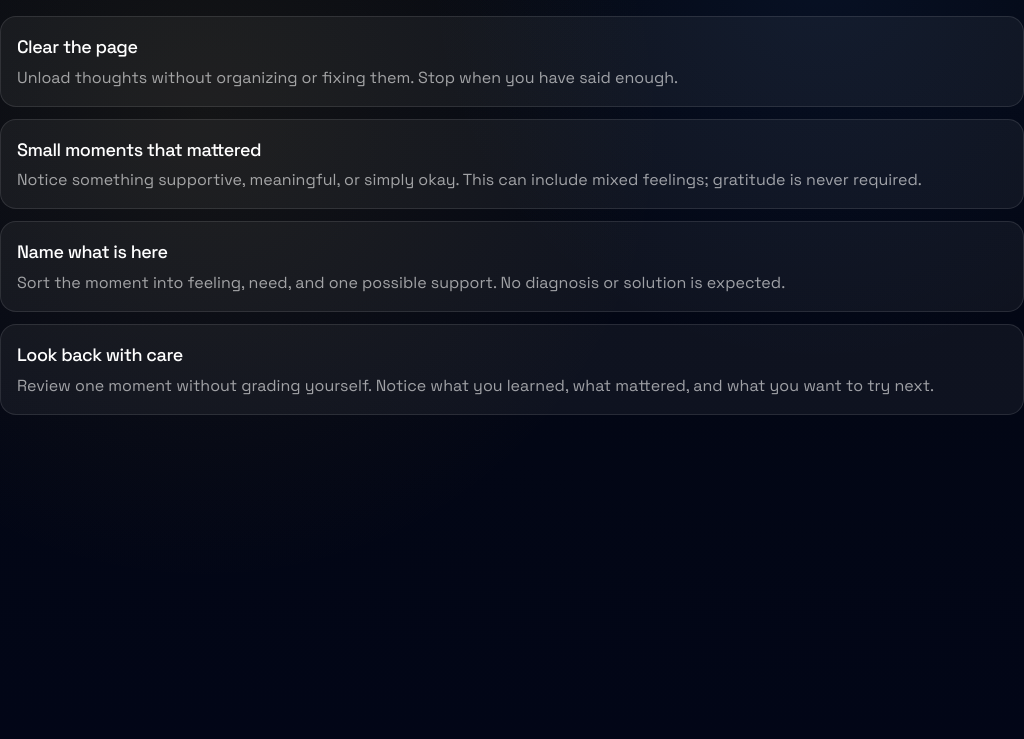
it: JournalingTool Scribe assist › sends journal text to Mirror only after an explicit request and does not add its response to the entry
Click the button "Look back with care". click: [100, 355]
box: [0,324,1023,415]
(page scrolled)
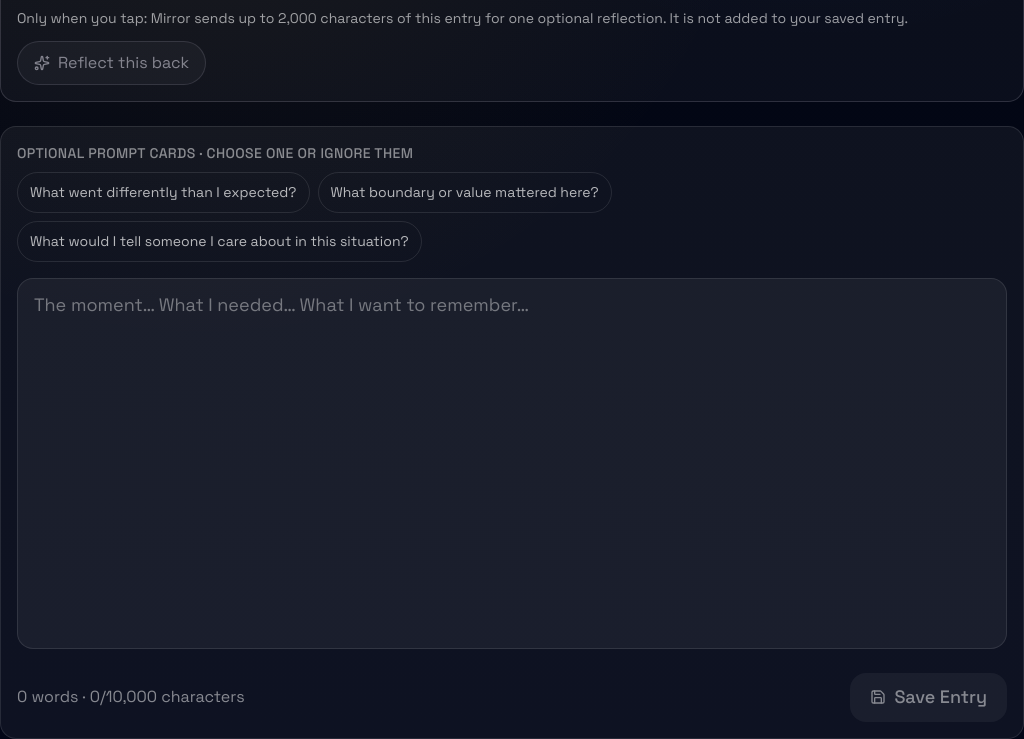
Type "Rest felt difficult to ask for." into the text box named "Journal entry". click: [512, 464]
box: [17,278,1007,649]
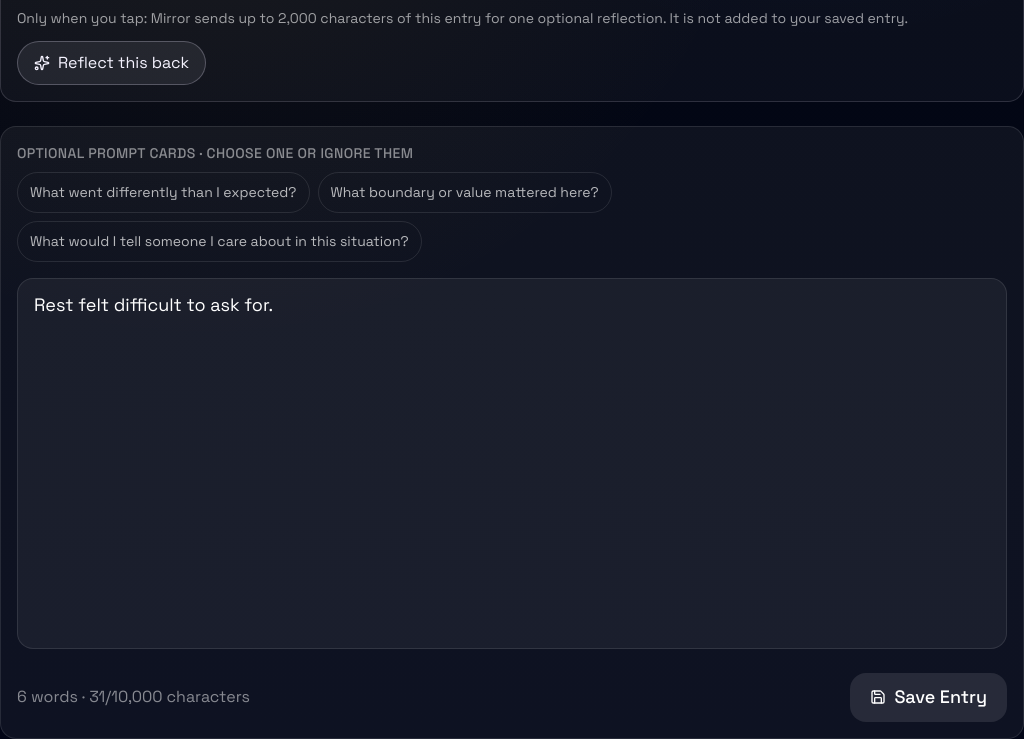
Click the button "Reflect this back". click: [112, 63]
box: [17,41,206,85]
(page scrolled)
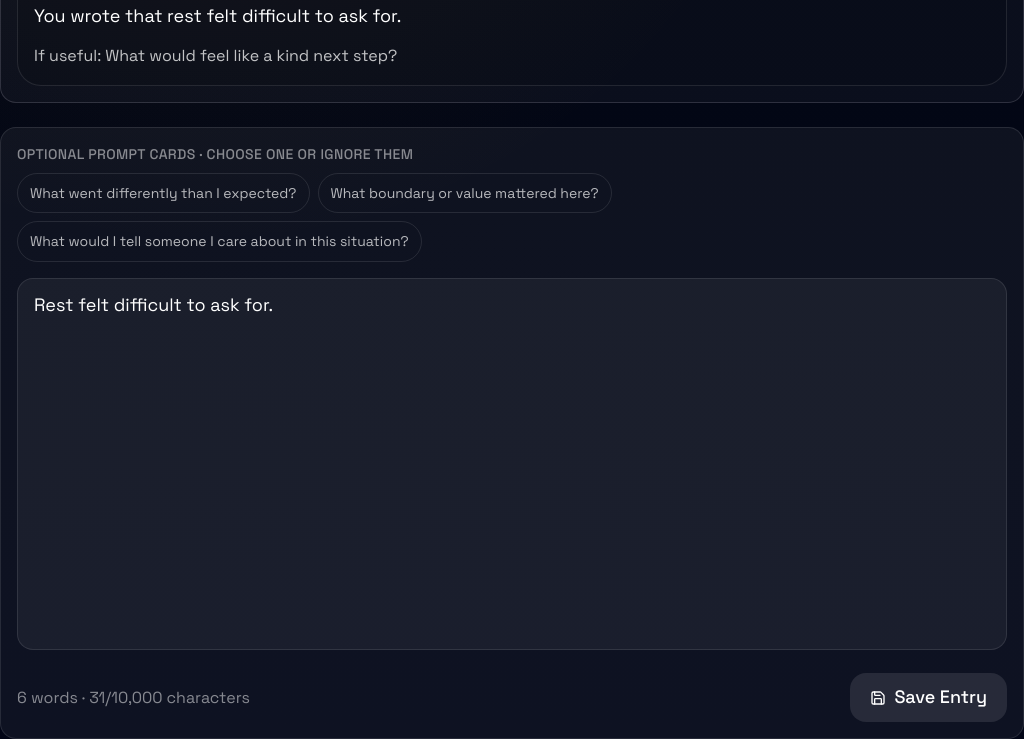
Expected: the text "You wrote that rest felt difficult to ask for." is shown, [34,4,401,27]
